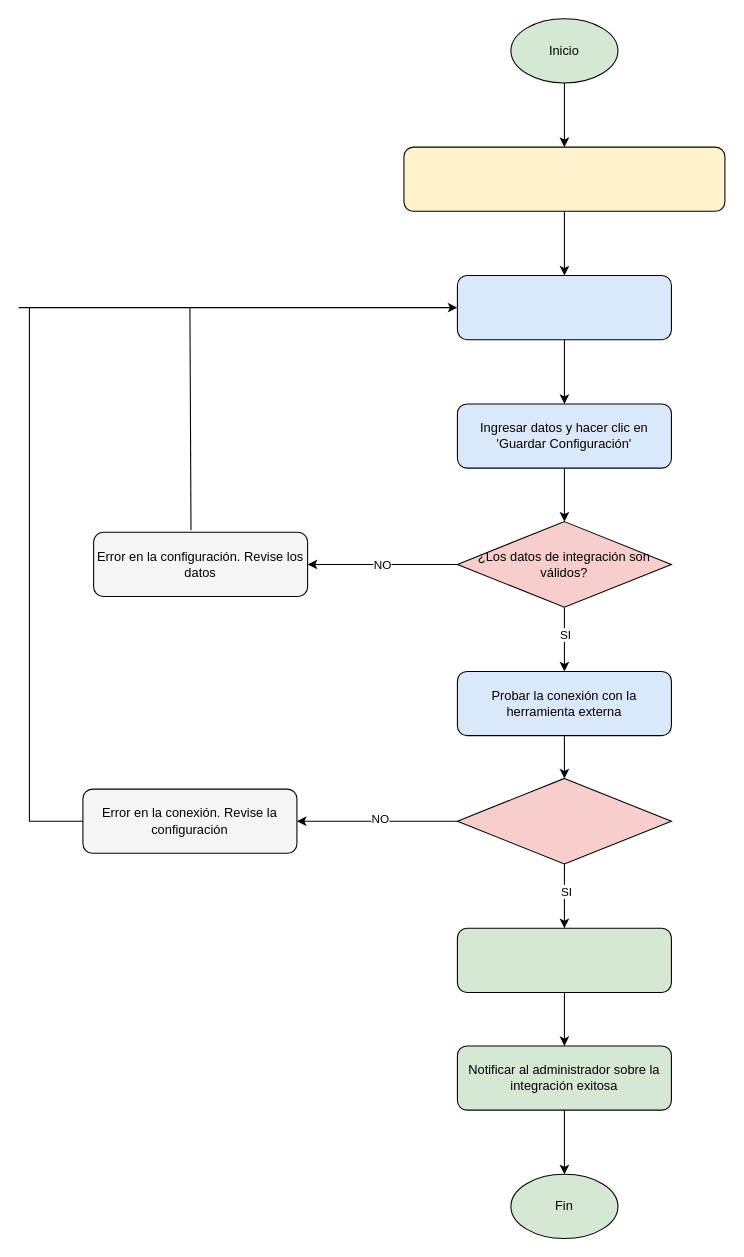
The diagram is 744 pixels wide and 1257 high, and some of its shapes have lost their labels. Here are the shapes that lost their labels. From the top down, the box of each, then its label:
(403, 146, 725, 211): Seleccionar herramienta a integrar (API de pagos, Correo, Comunicación)
(456, 274, 671, 340): Mostrar formulario para configurar la integración
(456, 777, 671, 864): ¿La conexión fue exitosa?
(456, 927, 671, 992): Guardar configuración y habilitar integración
